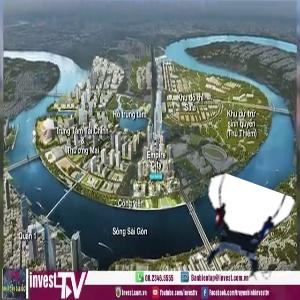drone: (193, 183, 292, 282)
